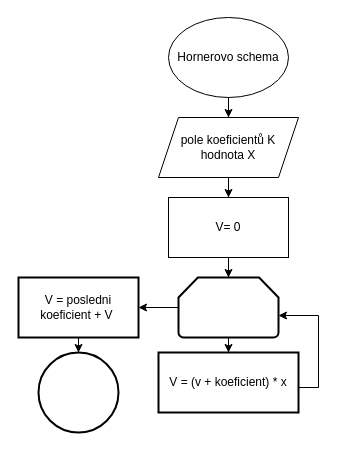
The diagram is 344 pixels wide and 451 high, and some of its shapes have lost their labels. Here are the shapes that lost their labels. From the top down, the box of each, then its label:
(177, 276, 279, 338): první až předposlední K
(37, 351, 119, 433): vysledek je V
